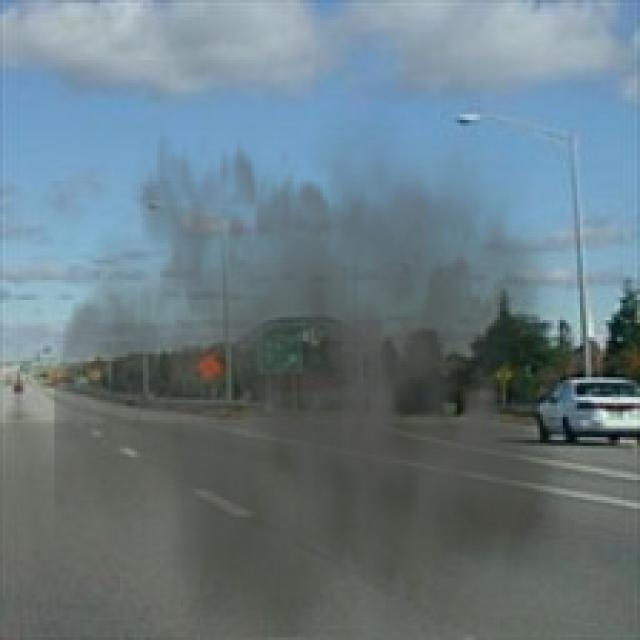Smoke: (54, 82, 583, 638)
